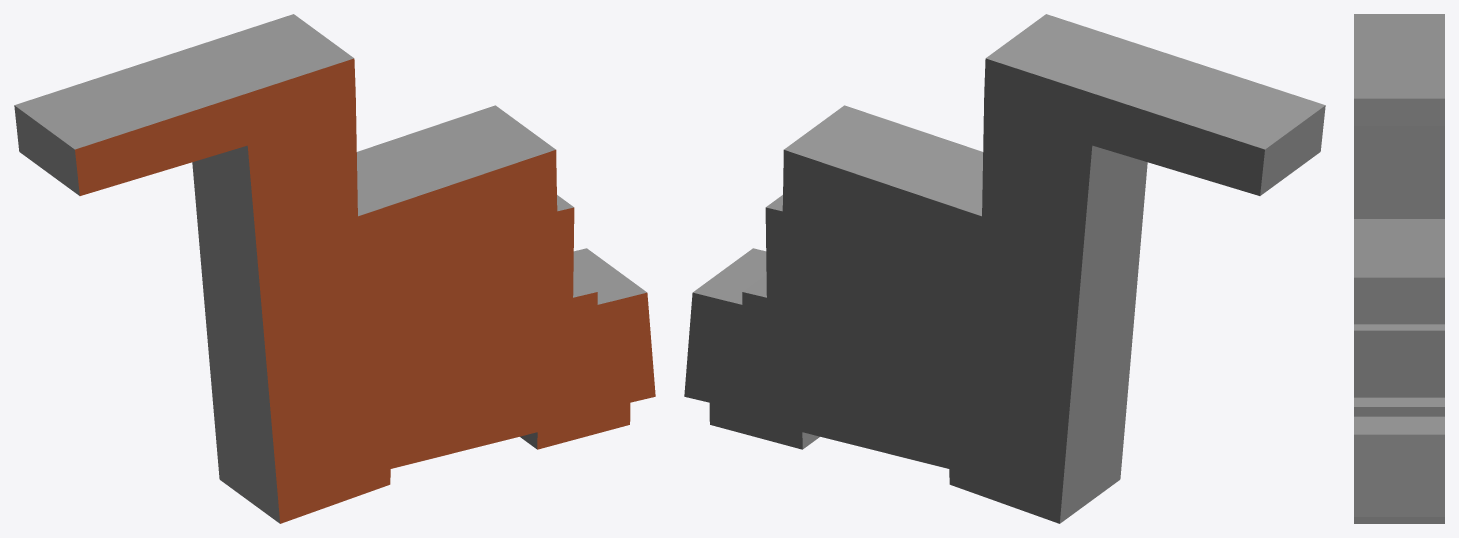
Rendered from construction_5883_assumed_A_Casa_h6m.obj.
3 views of the same model, side by side, from view 1: azimuth 30°, elevation 25°; view 2: azimuth 150°, elevation 25°; view 3: azimuth 270°, elevation 25° (orthographic). The views are drawn at different scales.
Visible parts, largest first — view 1: construction_5883_assumed_A_Casa; view 2: construction_5883_assumed_A_Casa; view 3: construction_5883_assumed_A_Casa.
Boxes of the visible parts, <box> form: construction_5883_assumed_A_Casa: <box>14,14,655,523</box>; construction_5883_assumed_A_Casa: <box>684,14,1325,523</box>; construction_5883_assumed_A_Casa: <box>1354,14,1444,523</box>.
Bounding box in the file's own units: 33.17 × 24.42 × 6.
